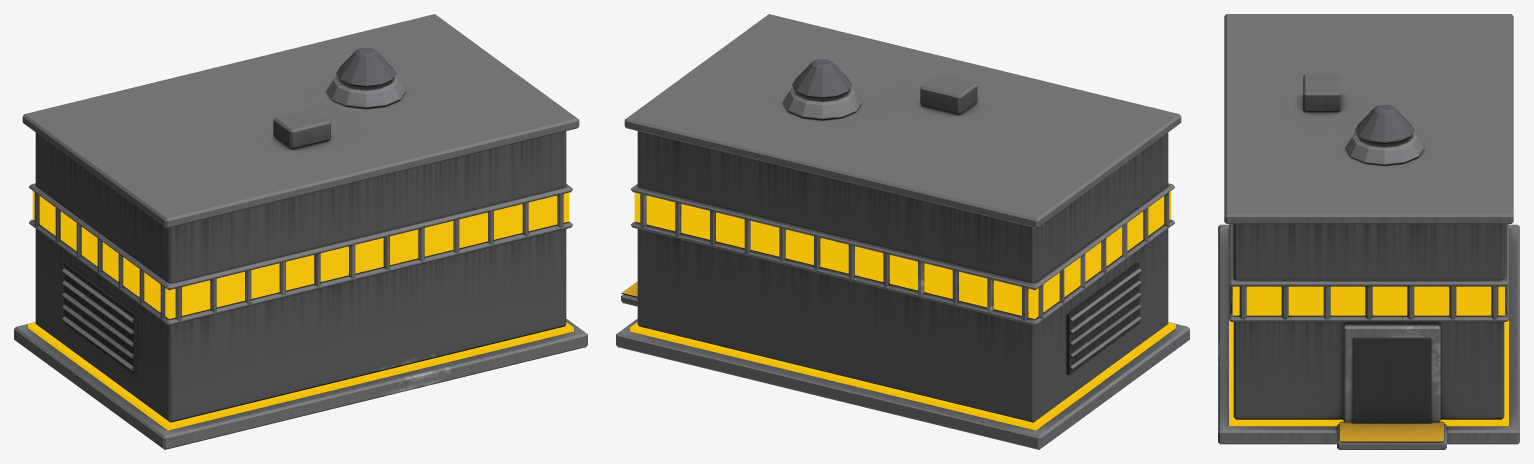
Rendered from nodexeus-set-mod-cabin.glb.
3 views of the same model, side by side, from view 1: azimuth 30°, elevation 25°; view 2: azimuth 150°, elevation 25°; view 3: azimuth 270°, elevation 25° (orthographic).
Visible parts, largest first — view 1: set-mod-cabin; view 2: set-mod-cabin; view 3: set-mod-cabin.
Part boxes in pixels (x1,y1,x2,y2): set-mod-cabin: [14, 14, 587, 449]; set-mod-cabin: [616, 14, 1189, 449]; set-mod-cabin: [1218, 14, 1519, 449].
Bounding box in the file's own units: 3.35 × 1.89 × 1.92.
Materials: 1 (1 with a texture image).
